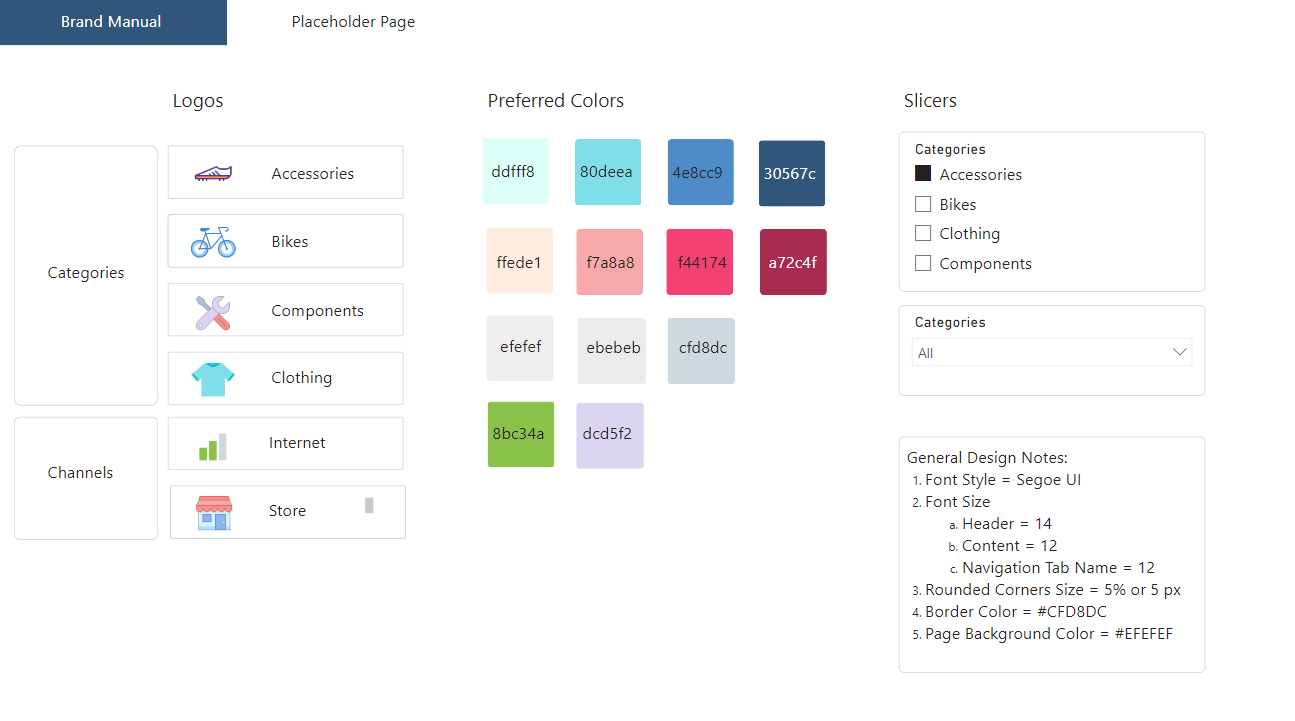

This screenshot's page, from the dashboard's own definition file:
{"tool":"powerbi","page":{"name":"Brand Manual","canvas":[1280,720],"ordinal":0},"visuals":[{"type":"shape","box":[18,413,141,121],"z":0},{"type":"shape","box":[18,148,141,255],"z":1000},{"type":"shape","box":[168.6,147.9,231,52.6],"z":2000},{"type":"image","box":[185.7,147.9,55,55],"z":3000},{"type":"shape","box":[168.6,215.5,231,52.6],"z":4000},{"type":"shape","box":[168.6,282.7,231,52.6],"z":5000},{"type":"shape","box":[168.7,349.9,231,52.6],"z":6000},{"type":"shape","box":[168.6,413.2,231,52.6],"z":7000},{"type":"shape","box":[171.1,480.8,231,52.6],"z":8000},{"type":"image","box":[185.7,215.1,55,55],"z":9000},{"type":"image","box":[185.7,349.6,55,55],"z":10000},{"type":"image","box":[190.6,289.7,45.2,45.2],"z":11000},{"type":"image","box":[190.6,420.5,45.2,45.2],"z":12000},{"type":"image","box":[191.9,485.3,45.2,45.2],"z":13000},{"type":"textbox","box":[265.2,158.9,112.5,34.2],"z":14000},{"type":"textbox","box":[265.2,224.9,112.5,34.2],"z":15000},{"type":"textbox","box":[265.4,292.1,112.5,34.2],"z":16000},{"type":"textbox","box":[265.4,358.1,112.5,34.2],"z":17000},{"type":"textbox","box":[262.7,422.4,112.5,34.2],"z":18000},{"type":"textbox","box":[262.7,488.4,112.5,34.2],"z":19000},{"type":"textbox","box":[168.7,85.6,233.5,48.9],"z":20000},{"type":"textbox","box":[47,255,112,35],"z":21000},{"type":"textbox","box":[47,451,92,34],"z":22000},{"type":"shape","box":[476.7,140.6,65,65],"z":23000},{"type":"textbox","box":[476.7,85.6,233.5,48.9],"z":24000},{"type":"textbox","box":[480,156.2,72.5,37.5],"z":25000},{"type":"shape","box":[567.5,141.2,65,65],"z":26000},{"type":"textbox","box":[567.5,156.2,72.5,37.5],"z":27000},{"type":"shape","box":[657.5,141.2,65,65],"z":28000},{"type":"textbox","box":[657.5,157.5,71.2,37.5],"z":29000},{"type":"shape","box":[747.5,142.5,65,65],"z":30000},{"type":"textbox","box":[747.5,158.8,71.2,37.5],"z":31000},{"type":"shape","box":[480,228.9,65.6,64.4],"z":32000},{"type":"textbox","box":[485.4,245.4,72.3,37.7],"z":33000},{"type":"shape","box":[568.5,230,65.4,64.6],"z":34000},{"type":"textbox","box":[573.8,246.2,72.3,37.7],"z":35000},{"type":"shape","box":[748,229.4,65.4,64.6],"z":36000},{"type":"textbox","box":[752,246,117,37],"z":37000},{"type":"shape","box":[656.9,230,65.4,64.6],"z":38000},{"type":"textbox","box":[663.1,245.4,72.3,37.7],"z":39000},{"type":"shape","box":[482,399,65.6,64.4],"z":40000},{"type":"textbox","box":[481.8,413,72.3,37.7],"z":41000},{"type":"shape","box":[658,317,66,65],"z":42000},{"type":"textbox","box":[664.2,328.5,72.3,37.7],"z":43000},{"type":"shape","box":[569.1,399.8,66.2,64.6],"z":44000},{"type":"textbox","box":[569.7,413.3,72.3,37.7],"z":45000},{"type":"shape","box":[570,317,67,65],"z":46000},{"type":"textbox","box":[574,329,72,38],"z":47000},{"type":"shape","box":[480.9,314.3,66.2,64.6],"z":48000},{"type":"textbox","box":[489.3,327.4,72.3,37.7],"z":49000},{"type":"textbox","box":[884.3,85.7,232.9,48.6],"z":50000},{"type":"slicer","fields":{"Values":["Categories.Categories"]},"box":[884.3,134.3,300,157.1],"z":51000},{"type":"slicer","fields":{"Values":["Categories.Categories"]},"box":[884.3,304.3,300,88.6],"z":52000},{"type":"textbox","box":[884.3,432.9,300,231.4],"z":53000},{"type":"pageNavigator","box":[0,0,464.3,50],"z":54000}]}

Visuals, with their boxes on the page's 1280x720 design canvas (x1, y1, x2, y2). These are canvas units, not pixel positions in the 1295x721 screenshot, which may show the page scaled, cropped or inside an application window:
shape: 18/413/159/534
shape: 18/148/159/403
shape: 169/148/400/200
image: 186/148/241/203
shape: 169/216/400/268
shape: 169/283/400/335
shape: 169/350/400/402
shape: 169/413/400/466
shape: 171/481/402/533
image: 186/215/241/270
image: 186/350/241/405
image: 191/290/236/335
image: 191/420/236/466
image: 192/485/237/530
textbox: 265/159/378/193
textbox: 265/225/378/259
textbox: 265/292/378/326
textbox: 265/358/378/392
textbox: 263/422/375/457
textbox: 263/488/375/523
textbox: 169/86/402/134
textbox: 47/255/159/290
textbox: 47/451/139/485
shape: 477/141/542/206
textbox: 477/86/710/134
textbox: 480/156/552/194
shape: 568/141/632/206
textbox: 568/156/640/194
shape: 658/141/722/206
textbox: 658/158/729/195
shape: 748/142/812/208
textbox: 748/159/819/196
shape: 480/229/546/293
textbox: 485/245/558/283
shape: 568/230/634/295
textbox: 574/246/646/284
shape: 748/229/813/294
textbox: 752/246/869/283
shape: 657/230/722/295
textbox: 663/245/735/283
shape: 482/399/548/463
textbox: 482/413/554/451
shape: 658/317/724/382
textbox: 664/328/736/366
shape: 569/400/635/464
textbox: 570/413/642/451
shape: 570/317/637/382
textbox: 574/329/646/367
shape: 481/314/547/379
textbox: 489/327/562/365
textbox: 884/86/1117/134
slicer - Categories.Categories: 884/134/1184/291
slicer - Categories.Categories: 884/304/1184/393
textbox: 884/433/1184/664
pageNavigator: 0/0/464/50
